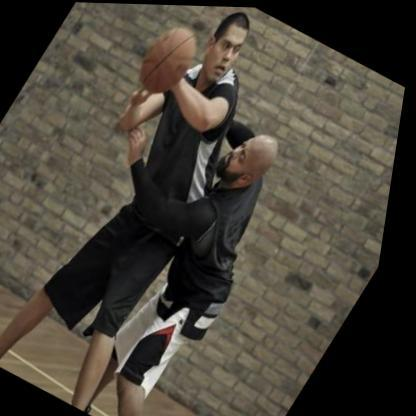basketball: (130, 18, 210, 99)
